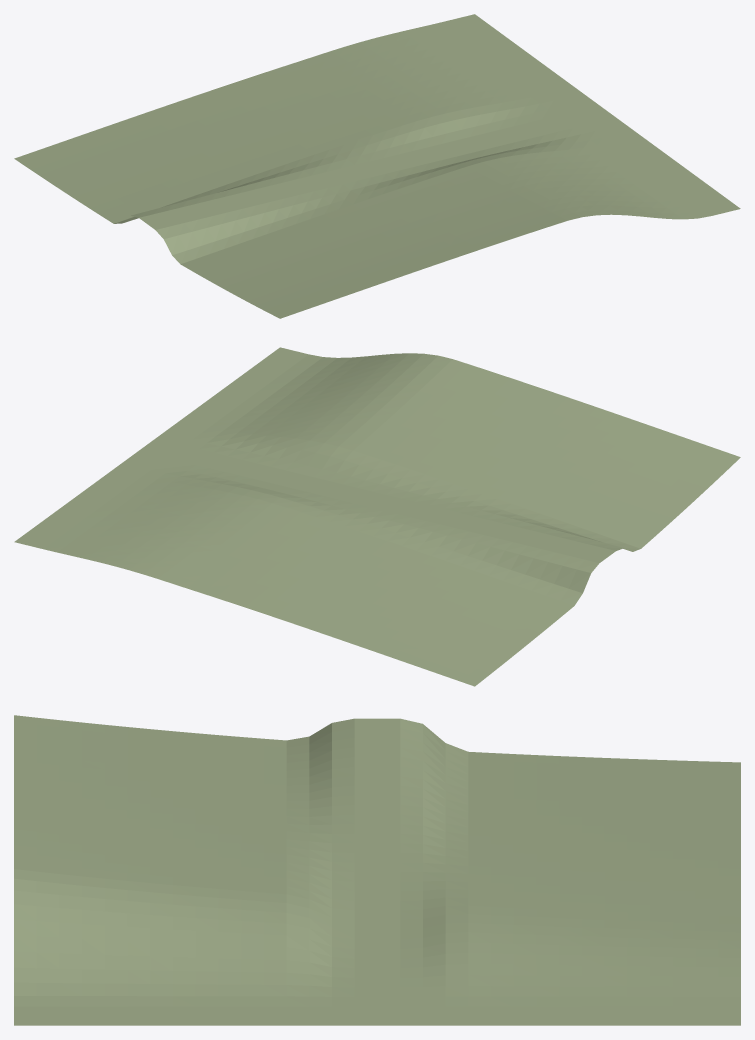
Rendered from valley-1-12.glb.
3 views of the same model, one above another, from view 1: azimuth 30°, elevation 25°; view 2: azimuth 150°, elevation 25°; view 3: azimuth 270°, elevation 25° (orthographic). The views are drawn at different scales.
Parts seen in each view (by area): view 1: valley-1-12; view 2: valley-1-12; view 3: valley-1-12.
Boxes of the visible parts, <box> form: valley-1-12: <box>14,14,740,318</box>; valley-1-12: <box>14,347,740,686</box>; valley-1-12: <box>14,715,740,1025</box>.
Size of the model in its own units: 256 by 33.15 by 256.
